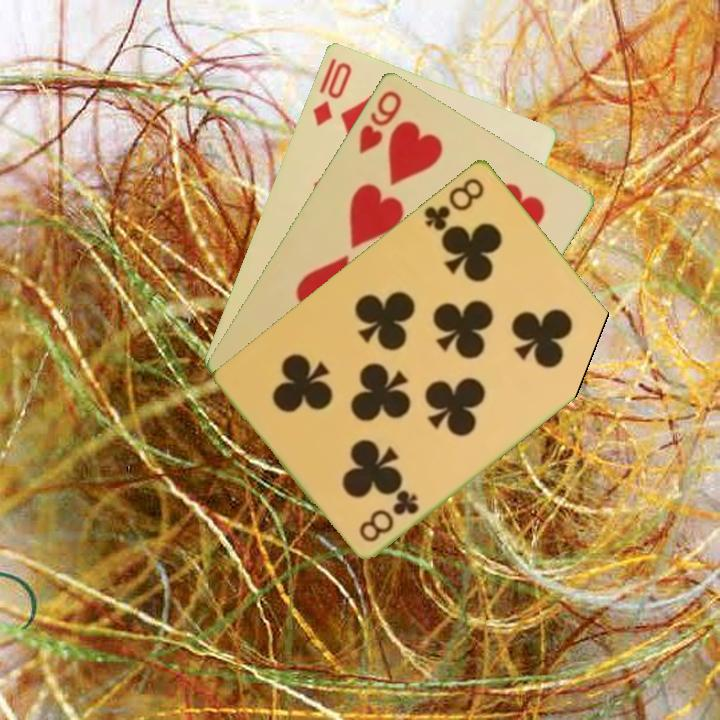10d: (309, 58, 355, 129)
8c: (420, 173, 487, 234), (355, 485, 422, 545)
9h: (355, 86, 405, 157)
